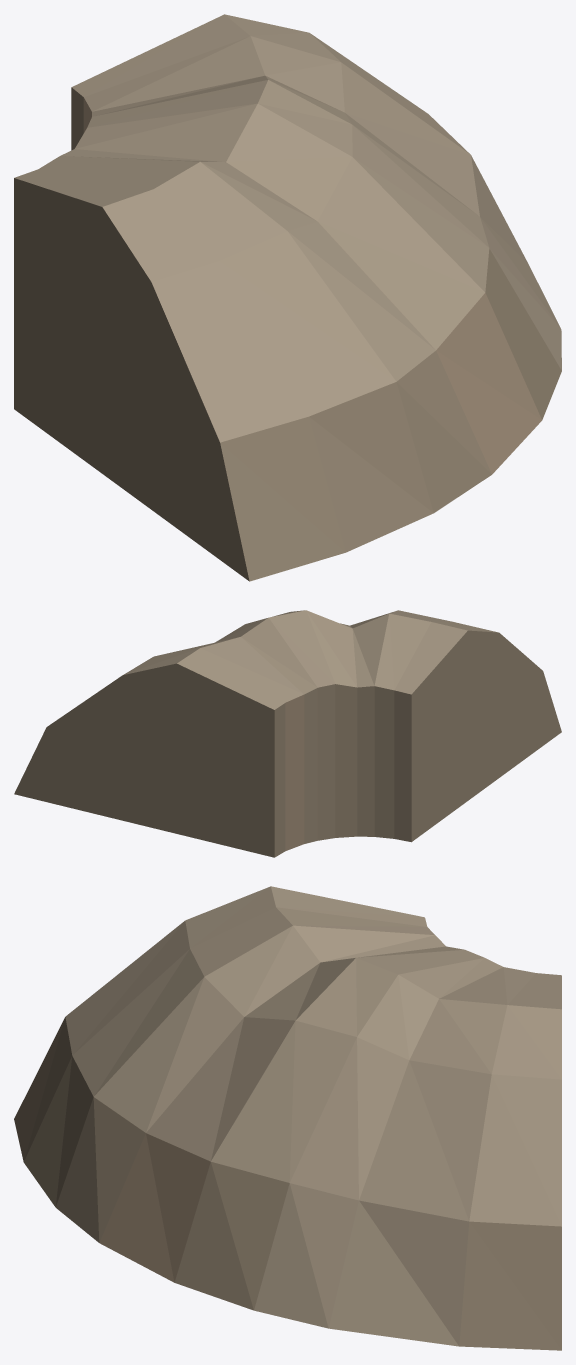
The model's file is coast_rock_outer_low.glb.
3 renders of one model, top to bottom at view 1: azimuth 30°, elevation 25°; view 2: azimuth 150°, elevation 25°; view 3: azimuth 270°, elevation 25°, orthographic. The views are drawn at different scales.
Parts seen in each view (by area): view 1: coast_rock_outer_low; view 2: coast_rock_outer_low; view 3: coast_rock_outer_low.
Boxes of the visible parts, x1,y1,x2,y2 form: coast_rock_outer_low: [14, 14, 561, 581]; coast_rock_outer_low: [14, 610, 561, 857]; coast_rock_outer_low: [14, 886, 561, 1350].
Size of the model in its own units: 1.6 by 0.8 by 1.6.
